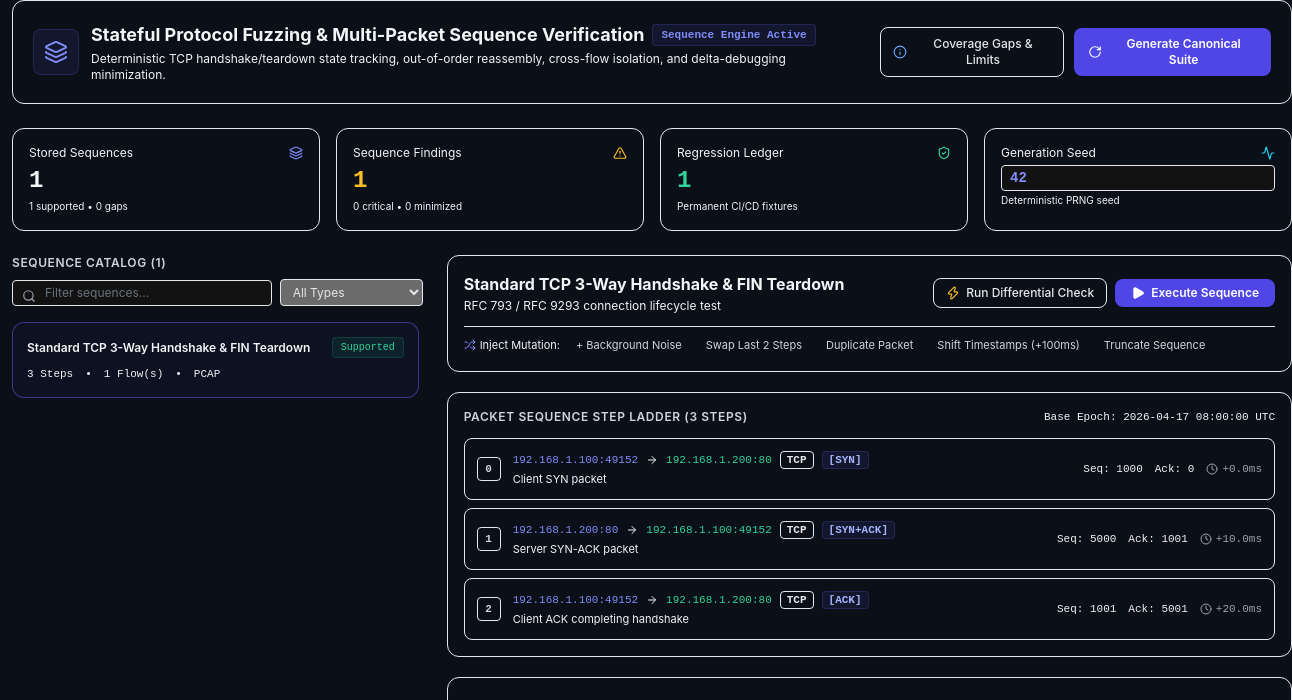
StatefulSequenceWorkbench Component › executes protocol sequence and renders outcome badge
Expected: the text "Execute Sequence" is shown, top-left (1151, 285), bottom-right (1259, 301)
What coordinates should you click on to do the following:
click the button "Execute Sequence"
I would click on:
 (1195, 293)
Its box is top-left (1115, 279), bottom-right (1275, 307).
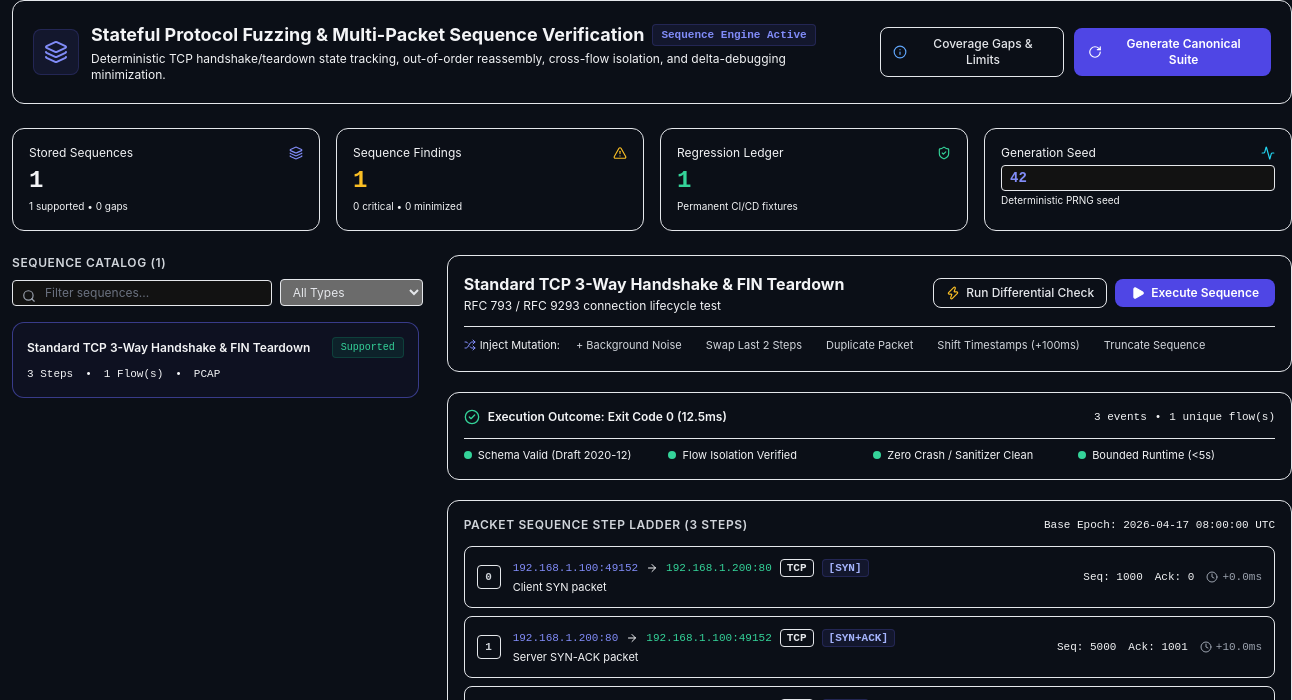
Result: the text "Execution Outcome: Exit Code 0 (12.5ms)" is shown at top-left (488, 409), bottom-right (727, 425)
Result: the text "Schema Valid (Draft 2020-12)" is shown at top-left (478, 446), bottom-right (632, 463)
Result: the text "Flow Isolation Verified" is shown at top-left (682, 446), bottom-right (797, 463)
